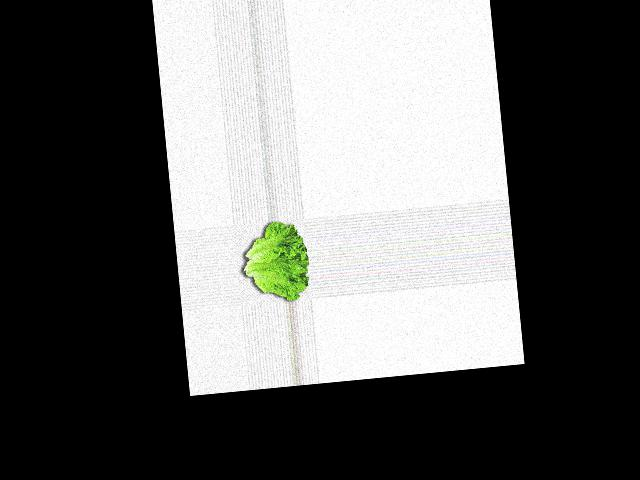lettuce: (237, 217, 311, 303)
